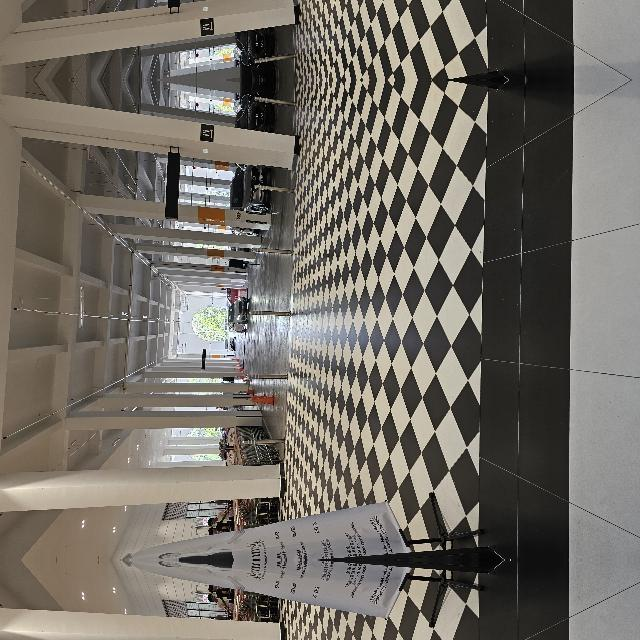obstacle: (0, 192, 58, 584), (0, 536, 58, 640), (364, 330, 378, 370), (241, 325, 251, 373), (303, 332, 313, 371), (180, 326, 188, 366)
